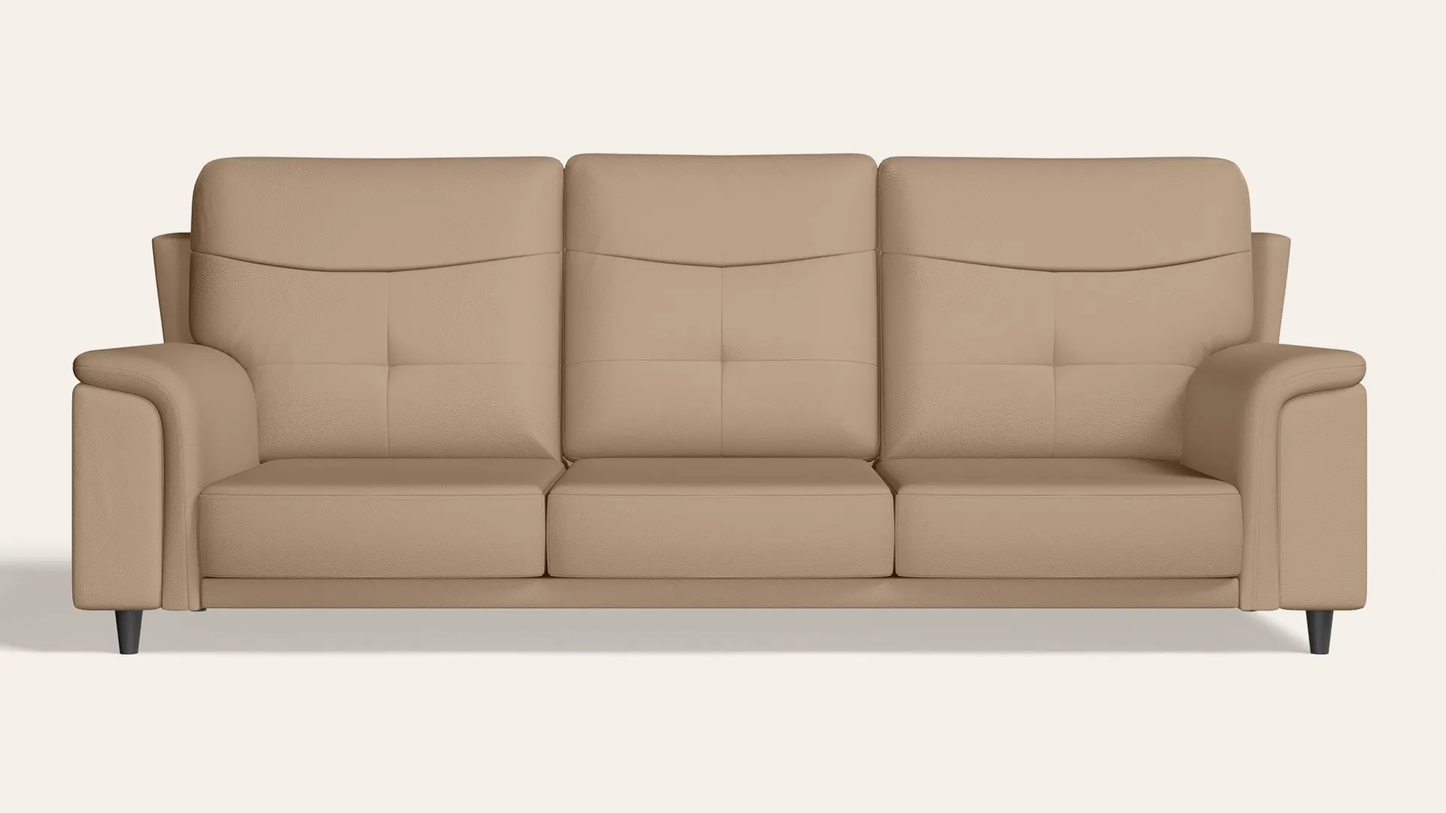3seatersofa: (74, 154, 1366, 655)
backrest: (191, 155, 878, 459), (881, 157, 1252, 456)
base: (200, 577, 1236, 608)
leftarmrest: (1182, 342, 1365, 610), (1252, 234, 1289, 338)
leg: (115, 611, 144, 654), (1307, 611, 1334, 654)
rightarmrest: (72, 234, 258, 614)
seat: (197, 458, 1243, 578)
